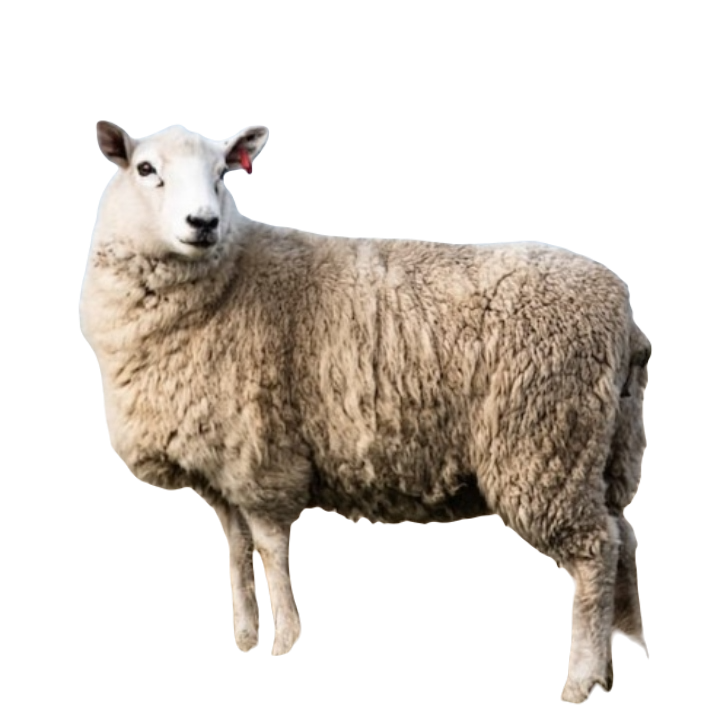Sheep: (69, 114, 658, 708)
